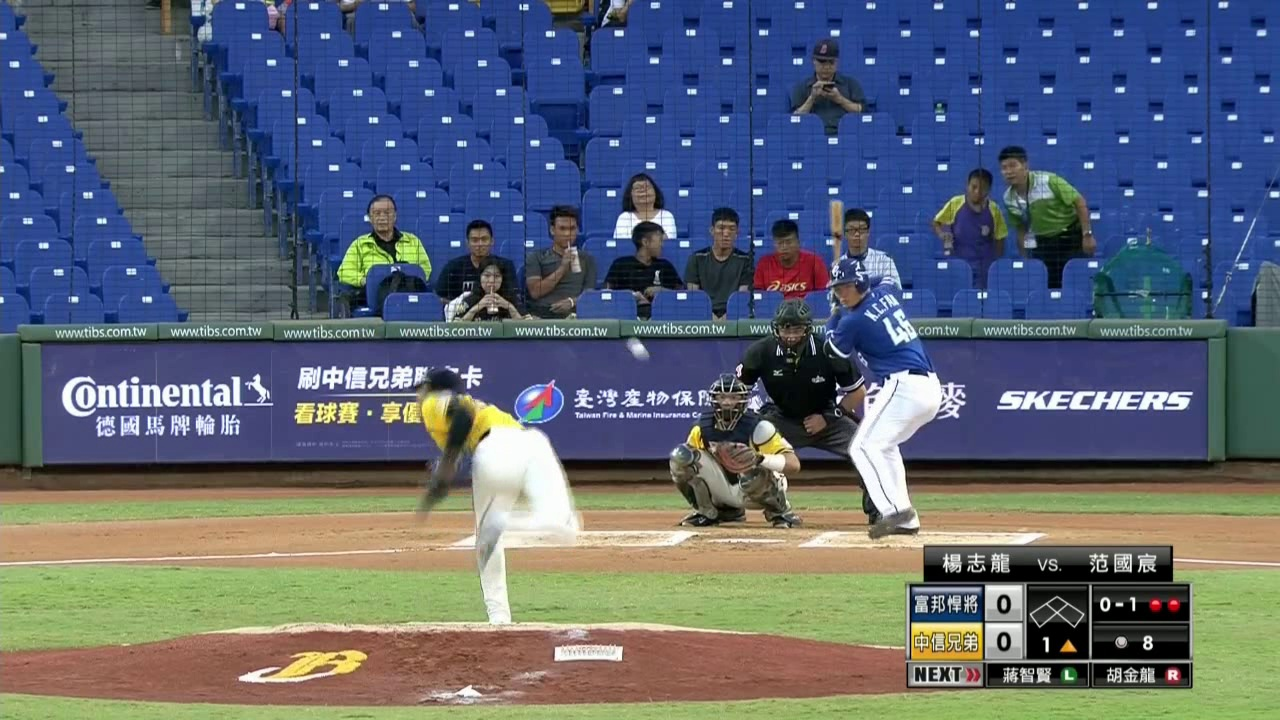ball: (627, 339, 654, 361)
base: (1028, 593, 1087, 629)
bat: (828, 195, 845, 271)
out: (1145, 594, 1182, 614)
score1: (985, 584, 1022, 621)
score2: (985, 623, 1022, 659)
session: (1039, 635, 1079, 654)
strikeball: (1098, 592, 1138, 613)
total: (1108, 628, 1158, 654)
